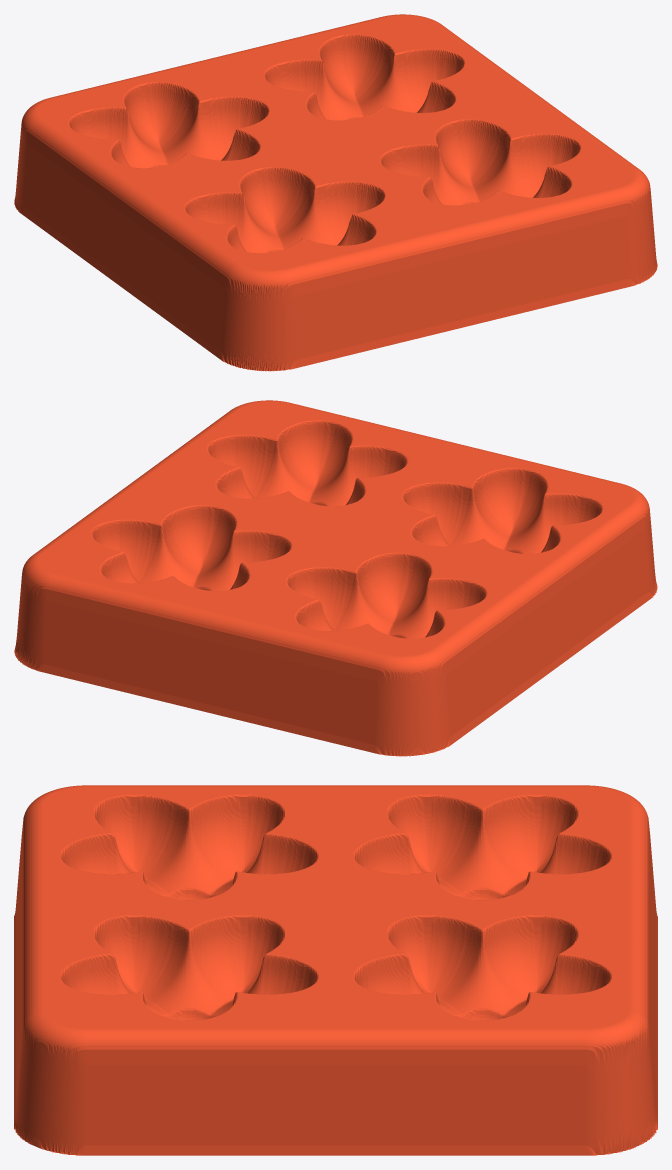
File: mold.glb
3 renders of one model, top to bottom at view 1: azimuth 30°, elevation 25°; view 2: azimuth 150°, elevation 25°; view 3: azimuth 270°, elevation 25°, orthographic. The views are drawn at different scales.
Parts seen in each view (by area): view 1: geometry_0; view 2: geometry_0; view 3: geometry_0.
Boxes of the visible parts, box(x1,y1,x2,y2) form: geometry_0: box(14, 14, 657, 371); geometry_0: box(14, 400, 657, 756); geometry_0: box(14, 785, 657, 1155).
Size of the model in its own units: 0.0788 by 0.0159 by 0.0808.
